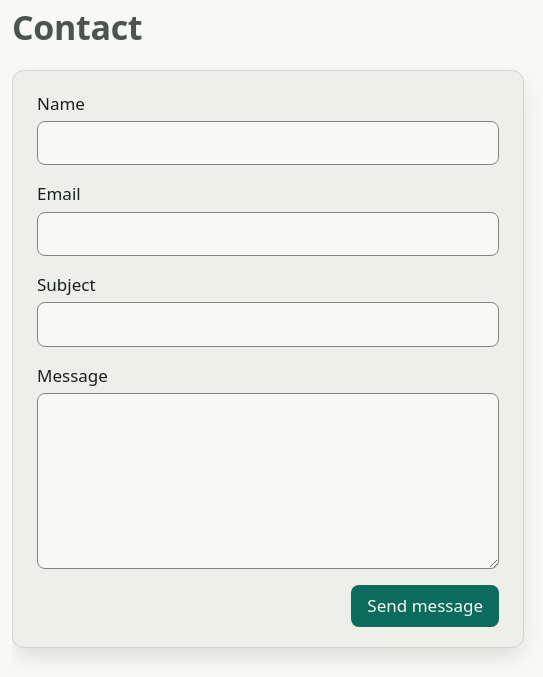
Test: ContactPage › sending a message › disables the button and says it is sending while the message is on its way
The image size is (543, 677).
In the field labelled "Name": [268, 143] box [37, 121, 499, 165], type "Grace"
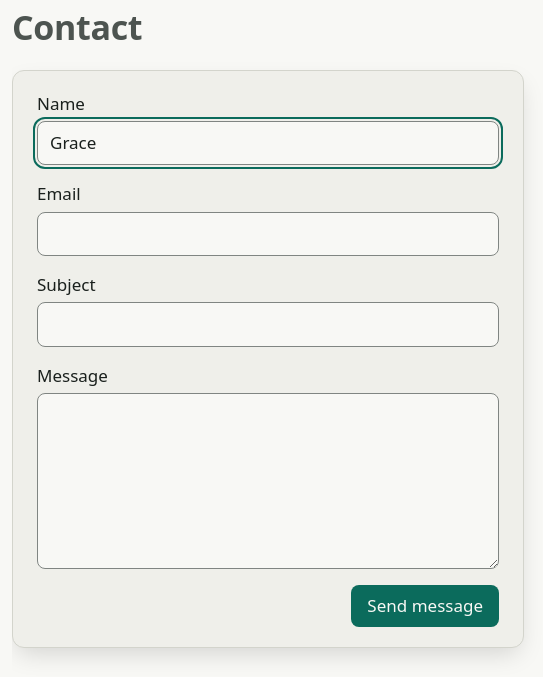
In the field labelled "Email": [268, 234] box [37, 212, 499, 256], type "grace@example.com"
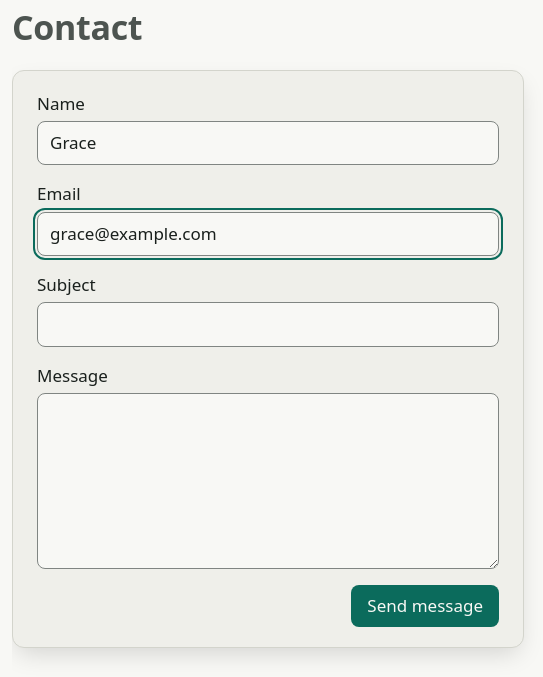
In the field labelled "Subject": [268, 324] box [37, 302, 499, 347], type "Say hello"
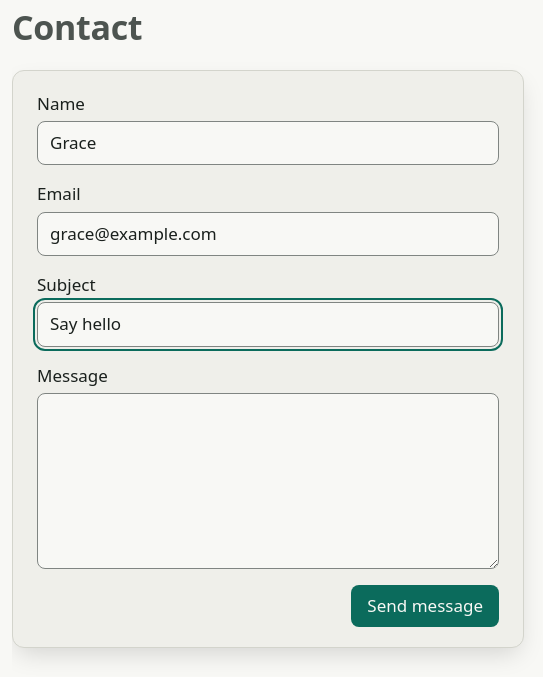
In the text box labelled "Message": [268, 481] box [37, 393, 499, 569], type "Hello, I would like to talk."
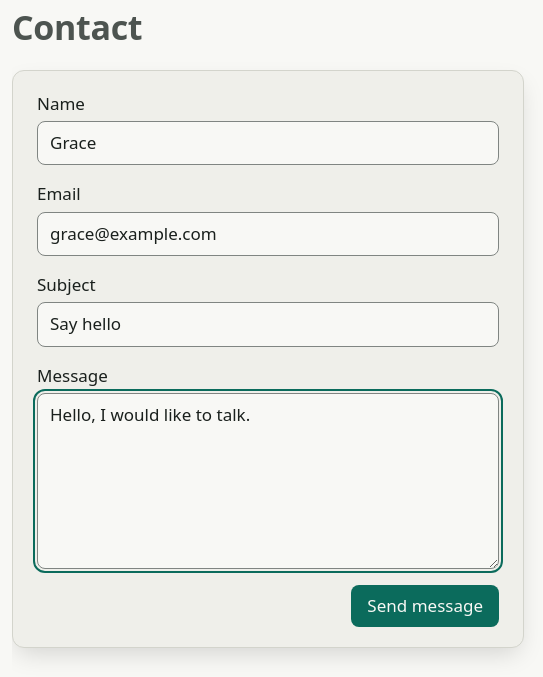
Click the button "Send message": [425, 606] box [351, 585, 499, 627]
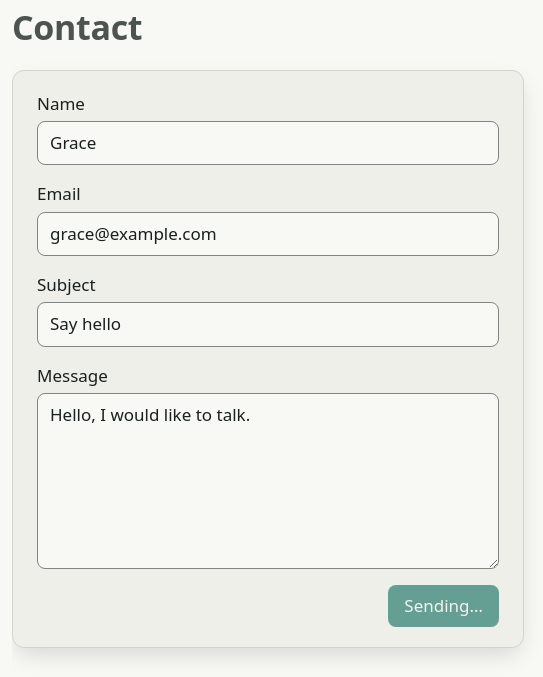
Expected: the button "Sending…" is disabled, [388, 585, 499, 627]
